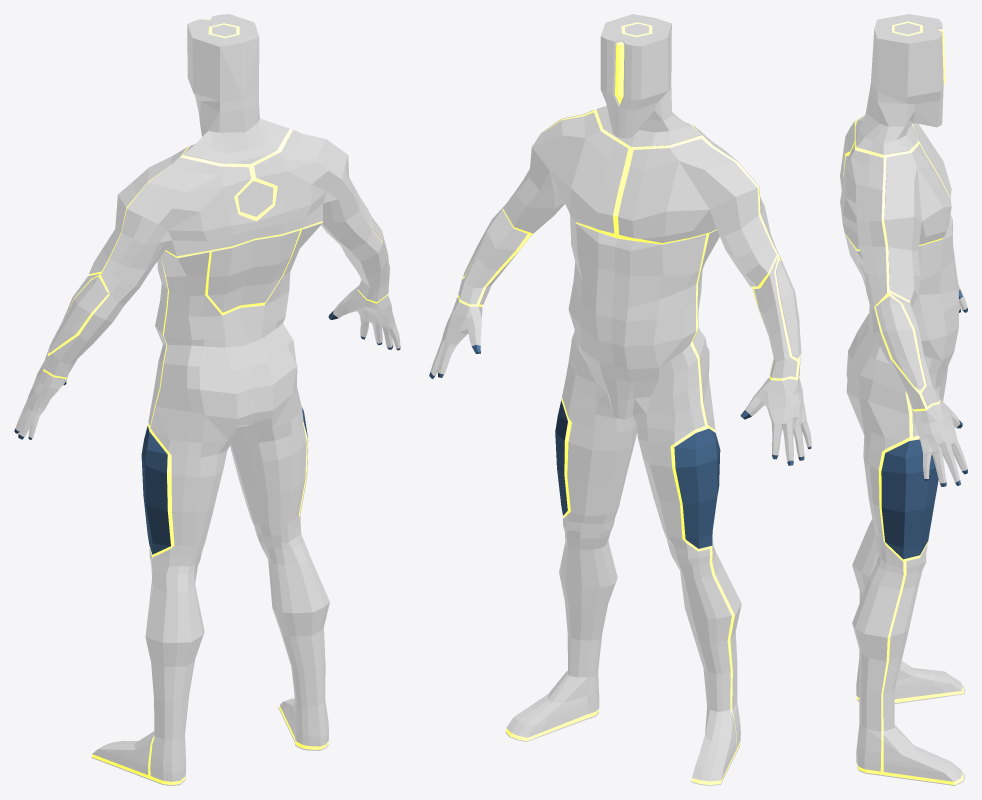
The model's file is base_player_model1.glb.
3 views of the same model, side by side, from view 1: azimuth 30°, elevation 25°; view 2: azimuth 150°, elevation 25°; view 3: azimuth 270°, elevation 25° (orthographic).
Parts seen in each view (by area): view 1: BasePlayer_Model.col; view 2: BasePlayer_Model.col; view 3: BasePlayer_Model.col.
Part boxes in pixels (x1=…): BasePlayer_Model.col: x1=14, y1=14, x2=400, y2=785; BasePlayer_Model.col: x1=429, y1=14, x2=811, y2=785; BasePlayer_Model.col: x1=840, y1=14, x2=967, y2=785.
Size of the model in its own units: 3.01 by 5.53 by 0.9087.
